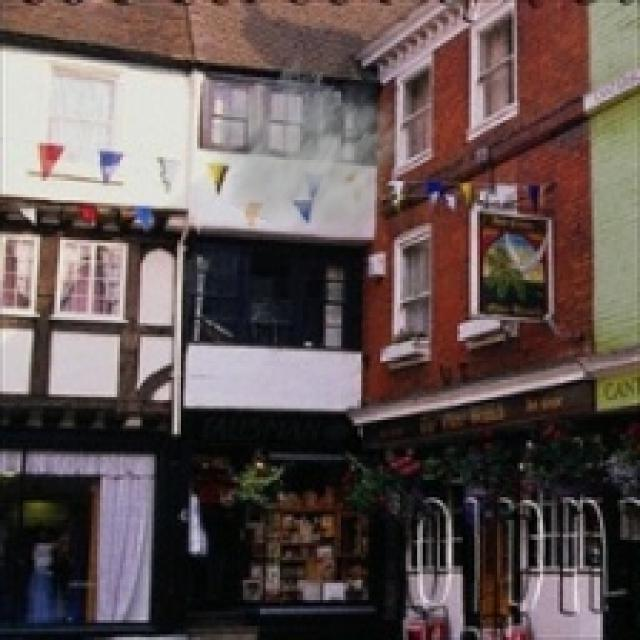smoke: (200, 57, 414, 257)
